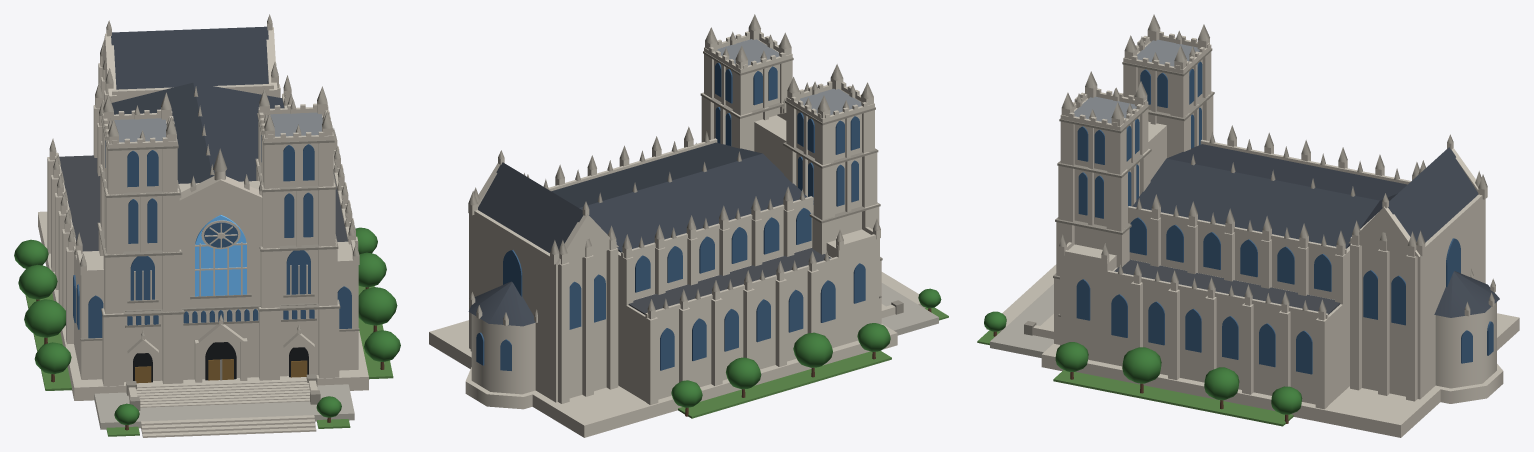
Rendered from kyunghee-peace-hall.glb.
The picture shows the model from 3 angles, left to right: view 1: azimuth 30°, elevation 25°; view 2: azimuth 150°, elevation 25°; view 3: azimuth 270°, elevation 25°; orthographic projection. The views are drawn at different scales.
Size of the model in its own units: 99.01 by 65.7 by 123.
